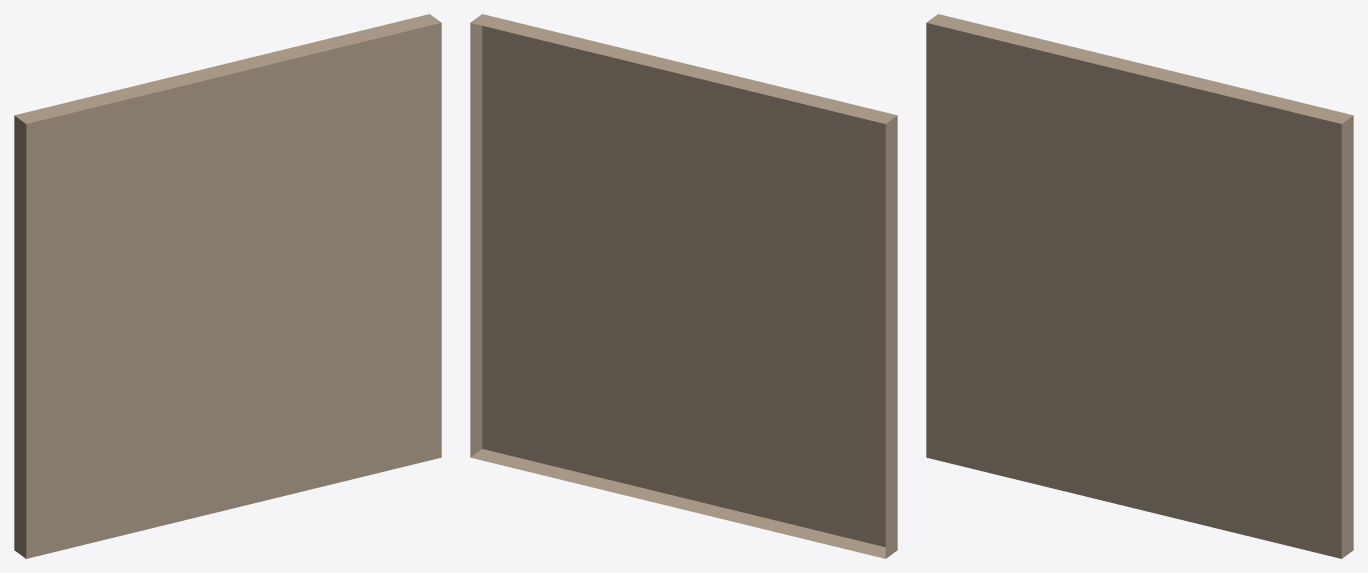
Rendered from cubeside-flat.fbx.
3 views of the same model, side by side, from view 1: azimuth 30°, elevation 25°; view 2: azimuth 150°, elevation 25°; view 3: azimuth 330°, elevation 25° (orthographic).
Visible parts, largest first — view 1: Cube; view 2: Cube; view 3: Cube.
Boxes of the visible parts, <box> form: Cube: <box>14,14,441,558</box>; Cube: <box>470,14,897,558</box>; Cube: <box>926,14,1353,558</box>.
Size of the model in its own units: 250 by 250 by 12.5.
